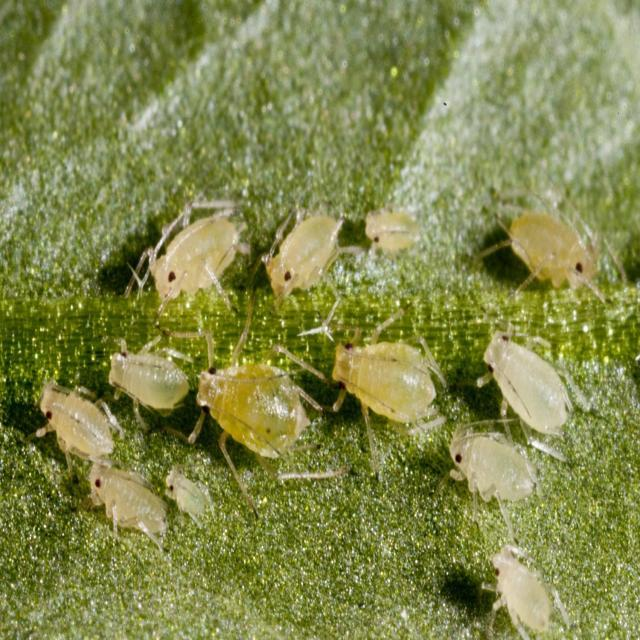Aphids: (20, 353, 323, 554), (106, 170, 357, 328), (452, 321, 590, 532), (328, 315, 449, 474), (482, 188, 626, 308), (479, 543, 577, 636), (362, 204, 436, 278)
